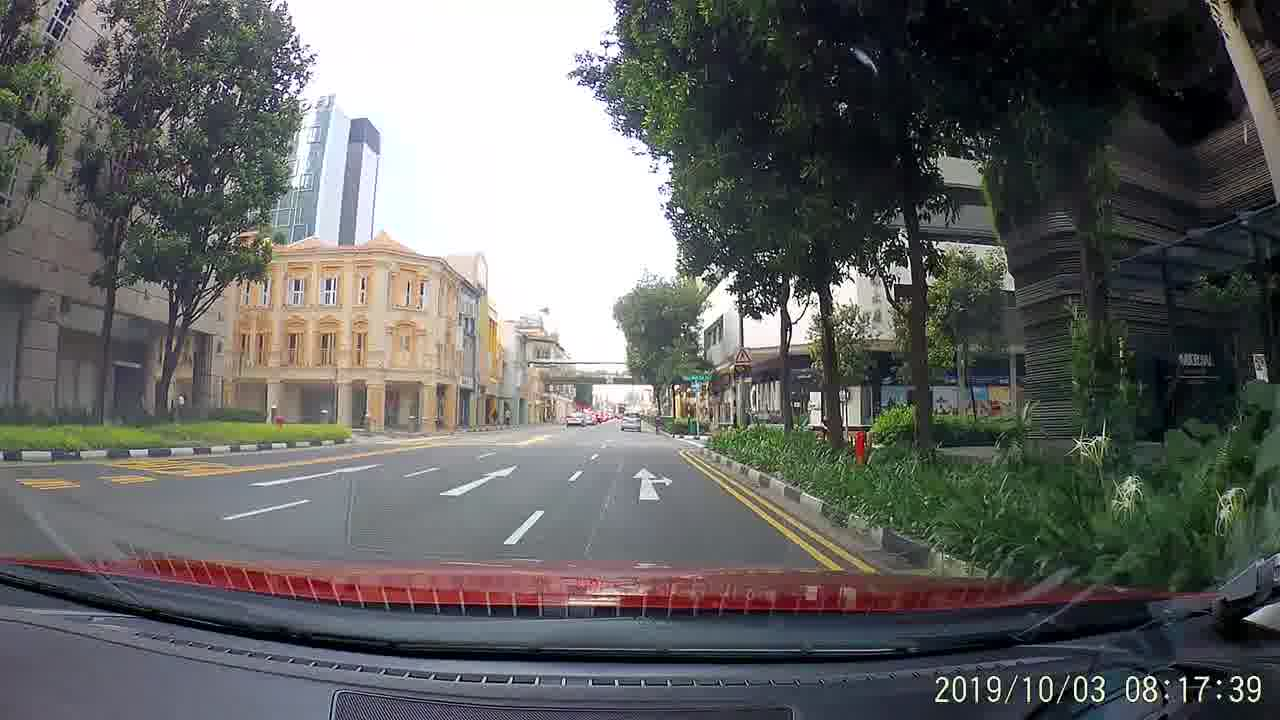car: (618, 411, 644, 435), (563, 408, 587, 428)
